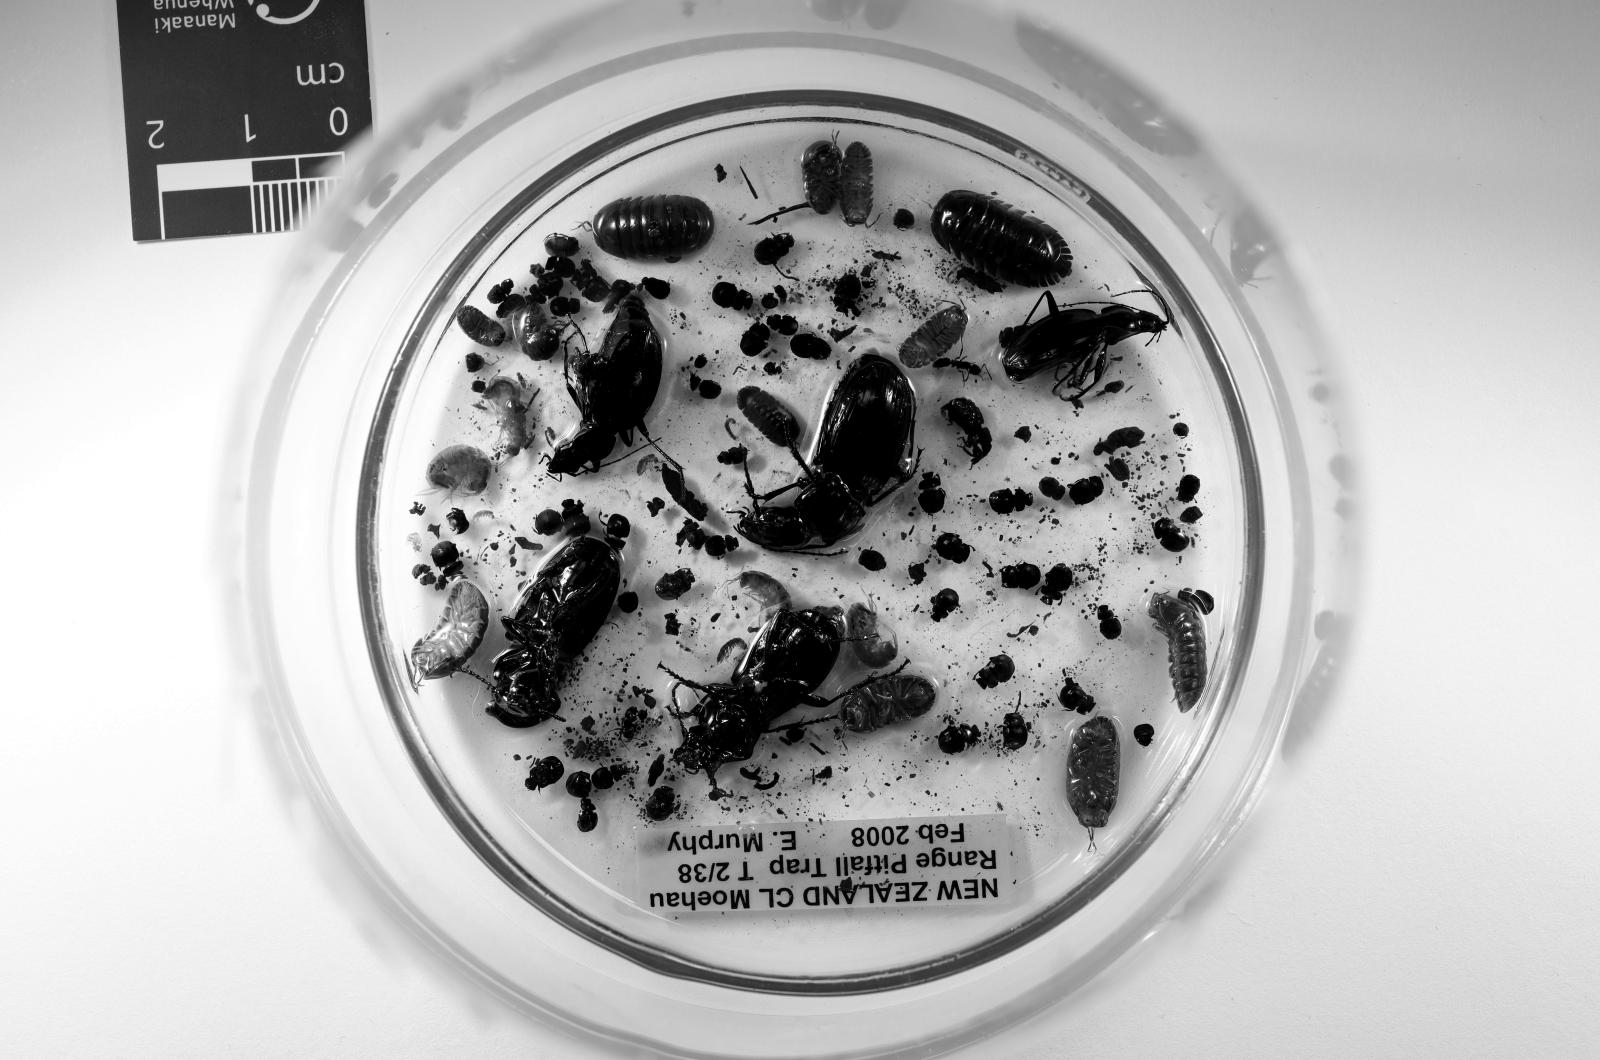amphipoda: (484, 376, 531, 460), (428, 444, 491, 497), (847, 602, 897, 668), (738, 571, 791, 621)
carabidae: (738, 354, 919, 553), (675, 609, 847, 789), (491, 537, 622, 730), (547, 292, 662, 475), (1000, 292, 1166, 401)
coleoptera: (941, 398, 991, 466), (525, 755, 566, 792), (1041, 562, 1075, 606), (975, 655, 1016, 689), (572, 264, 609, 301), (831, 273, 862, 317), (938, 724, 981, 755), (1059, 680, 1097, 714), (1153, 519, 1191, 553), (988, 488, 1034, 516), (753, 233, 794, 264), (919, 472, 947, 516), (431, 540, 462, 578), (656, 568, 694, 599), (528, 270, 562, 304), (712, 283, 753, 311), (1003, 711, 1031, 752), (1000, 562, 1041, 590), (644, 786, 675, 823), (791, 332, 831, 360), (591, 764, 634, 789), (562, 500, 591, 537), (603, 512, 631, 550), (1178, 587, 1216, 615), (1069, 475, 1103, 506), (934, 534, 969, 562), (741, 323, 769, 357), (931, 587, 959, 621), (703, 534, 738, 559), (544, 233, 578, 258), (1097, 606, 1122, 640), (641, 276, 672, 301), (691, 376, 722, 401), (547, 255, 578, 279), (766, 314, 800, 335), (497, 292, 525, 317), (1038, 475, 1066, 500), (550, 295, 581, 317), (578, 798, 597, 832), (719, 444, 747, 466), (1178, 475, 1200, 503), (859, 550, 888, 571), (488, 279, 512, 304), (447, 509, 469, 534)
collembola: (471, 508, 499, 527), (638, 453, 659, 475)
formicidae: (934, 348, 991, 379)
isopoda: (931, 189, 1072, 286), (584, 196, 712, 261), (412, 581, 488, 680), (1147, 593, 1206, 711), (1066, 717, 1119, 829), (841, 674, 938, 733), (900, 307, 969, 370), (738, 385, 800, 447), (509, 301, 562, 360), (803, 140, 841, 214), (841, 143, 872, 227), (456, 307, 509, 348)
